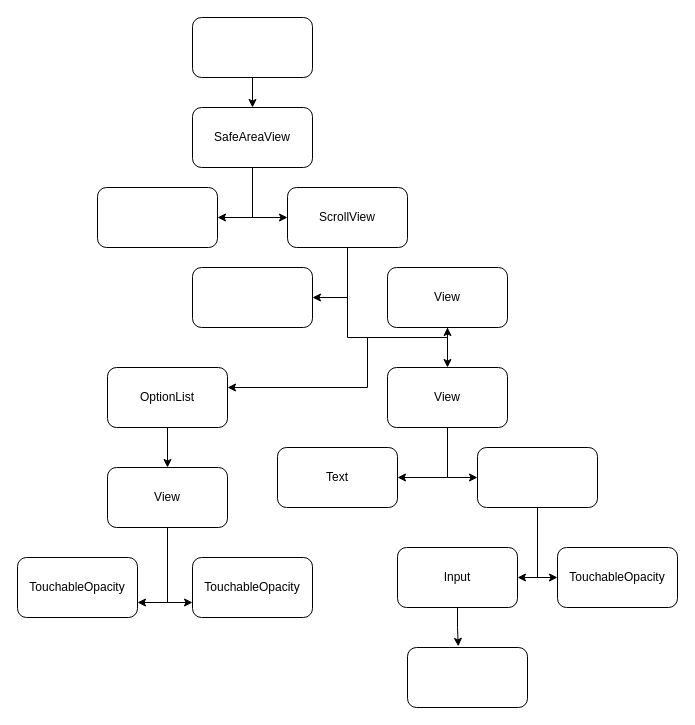
Some shapes in this 695 by 725 pixel diagram are drawn without their labels. Each missing label, with the centre of its shape:
"App" goes at point 252,47.
"Form" goes at point 537,477.
"Header" goes at point 252,297.
"StatusBar" goes at point 157,217.
"TextInput" goes at point 467,677.
